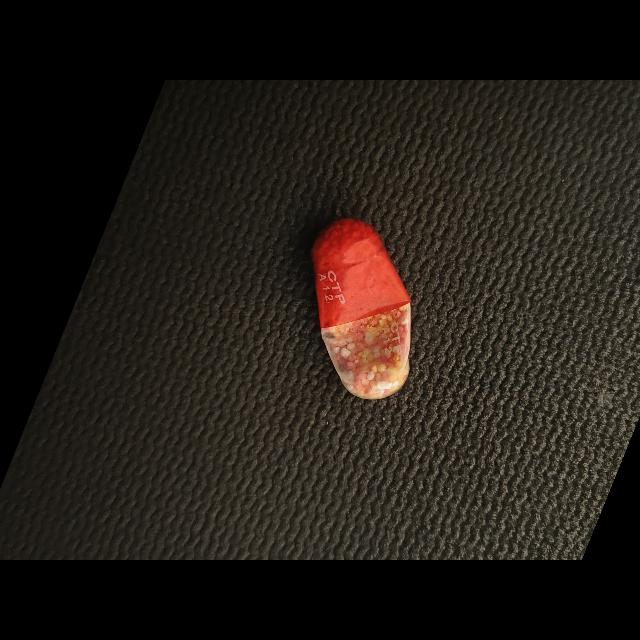Defective Capsule: (311, 218, 411, 399)
